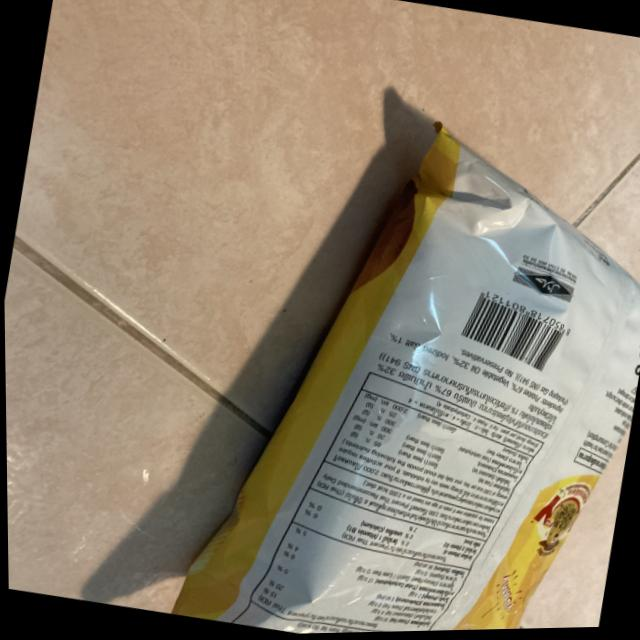LayYellow: (140, 62, 640, 638)
